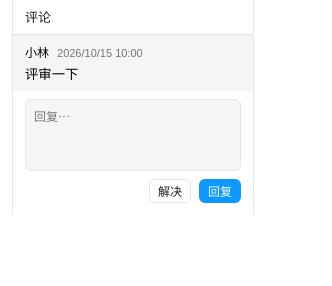
Scenario: 线程面板 · 回复与解决 › 提交回复进入线程并渲染
Type "收到，我来改" into the text box with placeholder "回复…".
click(133, 135); type("收到，我来改")  # box [25,99,241,171]
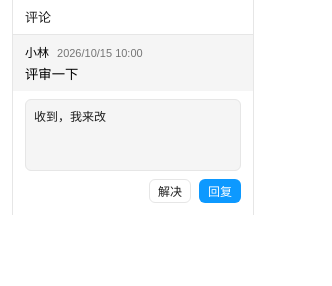
Click the button "回复".
click(220, 191)  # box [199,179,241,203]
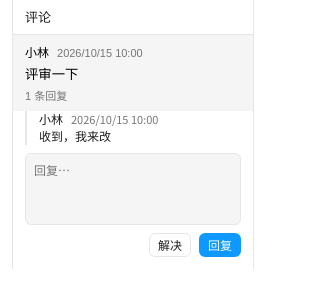
Check: the text "收到，我来改" is shown, box [39,127,111,144]
